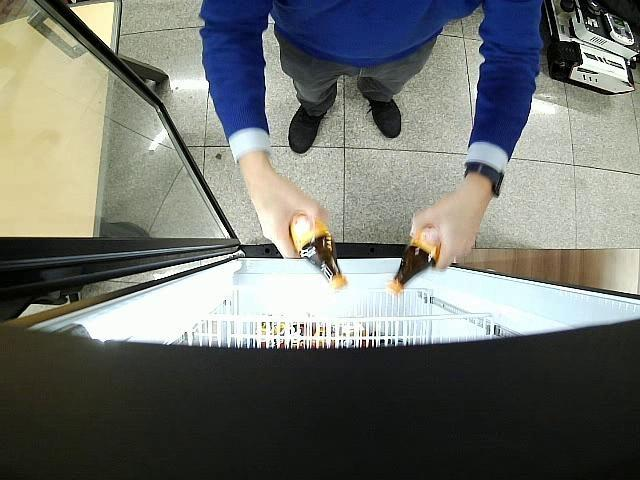17_vita500: (291, 214, 346, 290), (387, 227, 441, 294)
